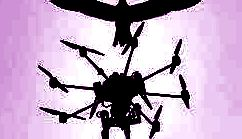Bird: (48, 0, 202, 47)
Drone: (33, 42, 193, 138)
